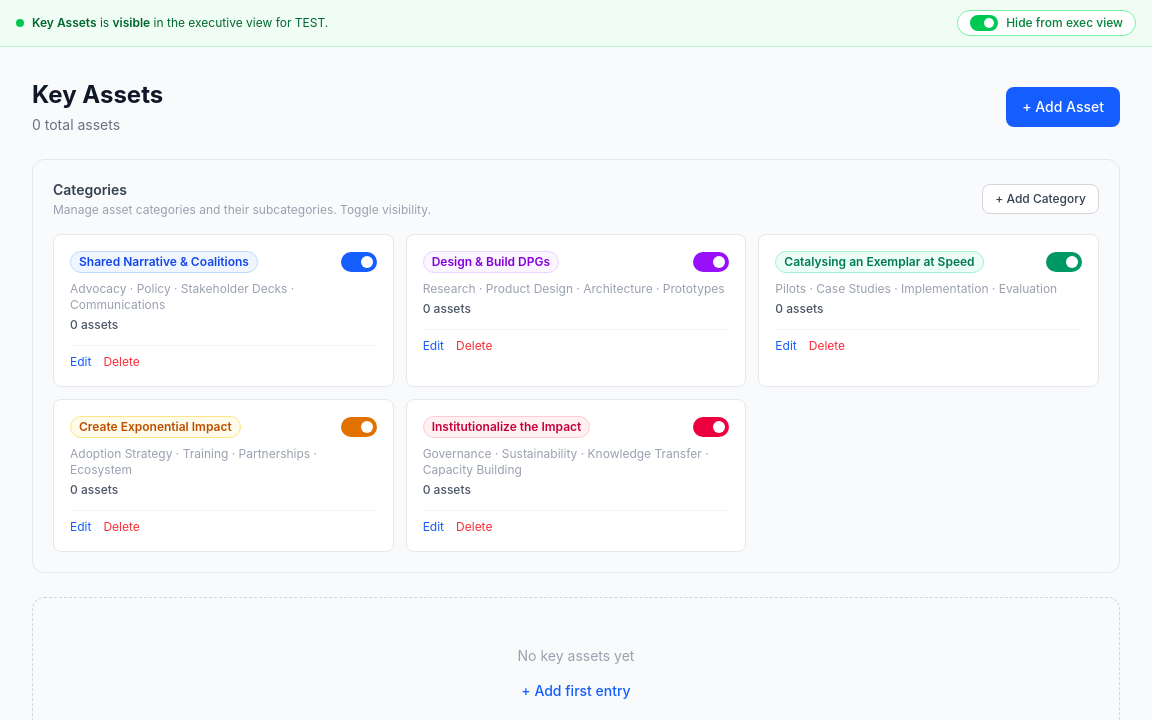
Test: ArtifactEditor › T-39.02: "+ Add Asset" button opens modal
Click the button "+ Add Asset".
click(1063, 107)  # box [1006,87,1120,127]
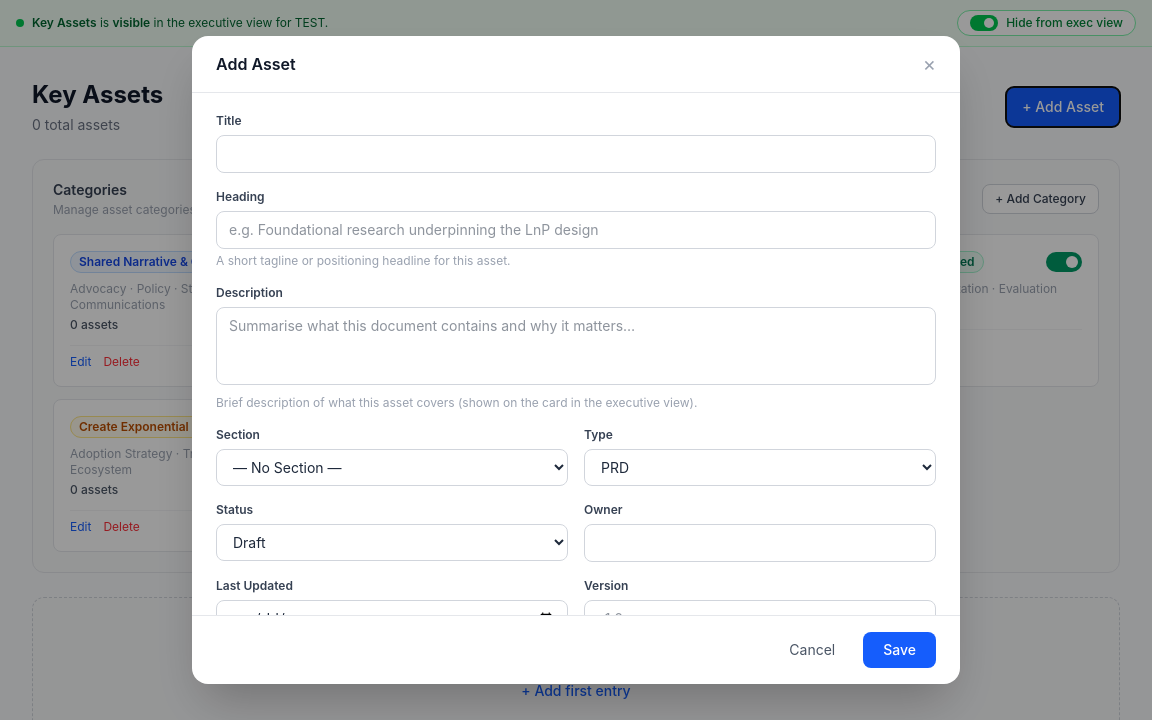
Result: the heading "Add Asset" is shown at [216,52,296,76]
